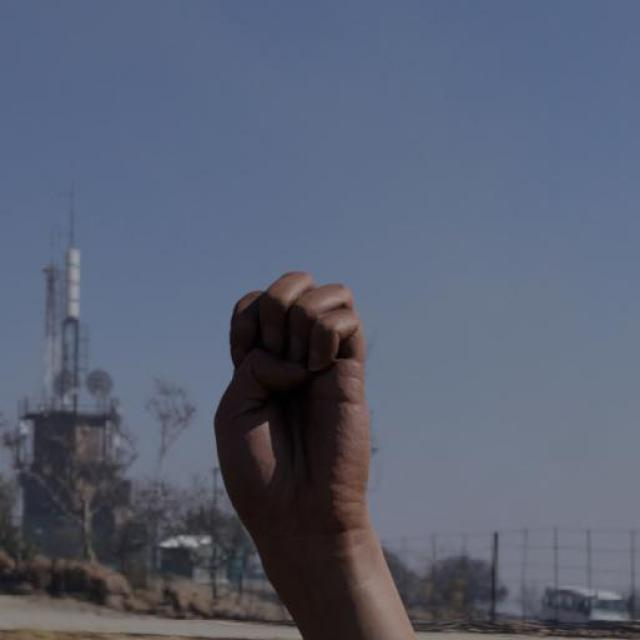E: (210, 263, 383, 547)
